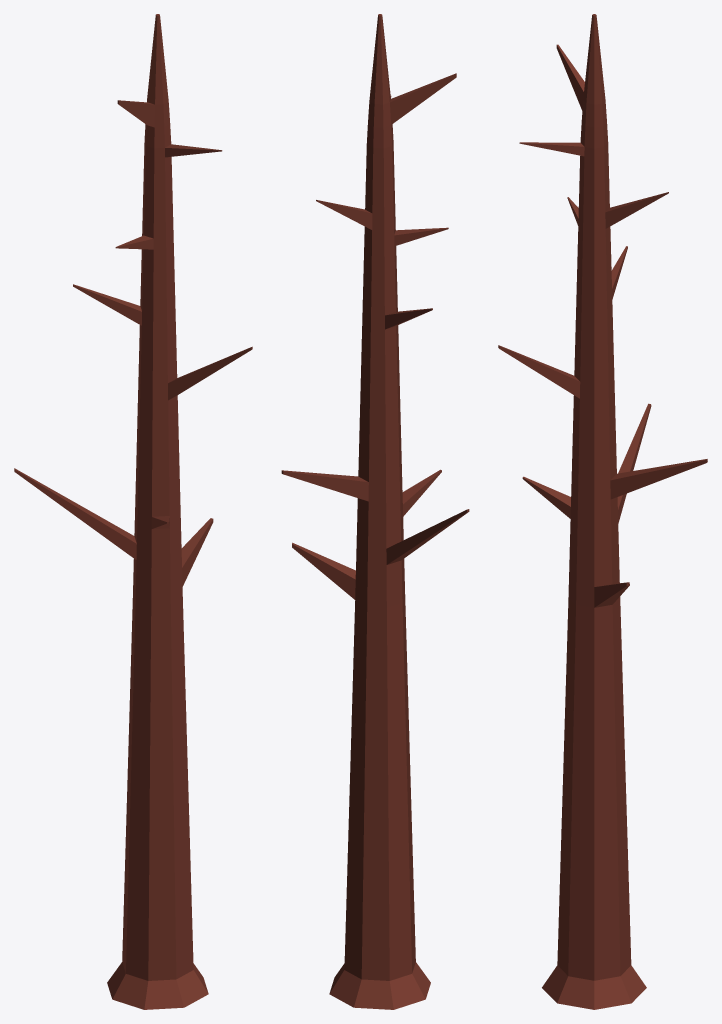
The model's file is Tree2.fbx.
3 renders of one model, left to right at view 1: azimuth 30°, elevation 25°; view 2: azimuth 150°, elevation 25°; view 3: azimuth 270°, elevation 25°, orthographic.
Parts seen in each view (by area): view 1: Circle.002; view 2: Circle.002; view 3: Circle.002.
Part boxes in pixels (left/top/right/bottom): Circle.002: left=14, top=14, right=252, bottom=1009; Circle.002: left=281, top=14, right=469, bottom=1009; Circle.002: left=498, top=14, right=707, bottom=1009.
Bounding box in the file's own units: 77.27 × 382 × 74.71.
